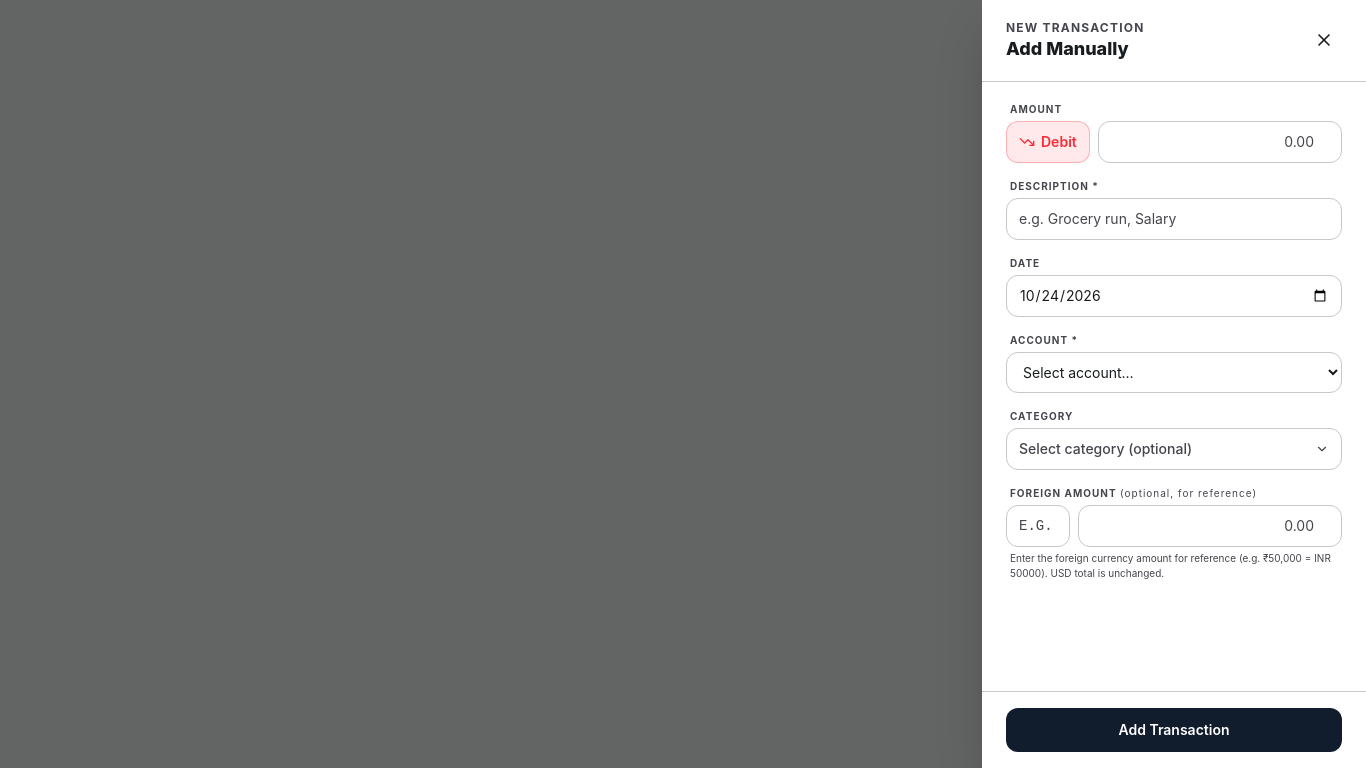
AddTransactionModal › shows validation errors when submitted with empty fields
The width and height of the screenshot is (1366, 768).
Step 1. Click the button "Add Transaction" → (1174, 730), box [1006,708,1342,752]
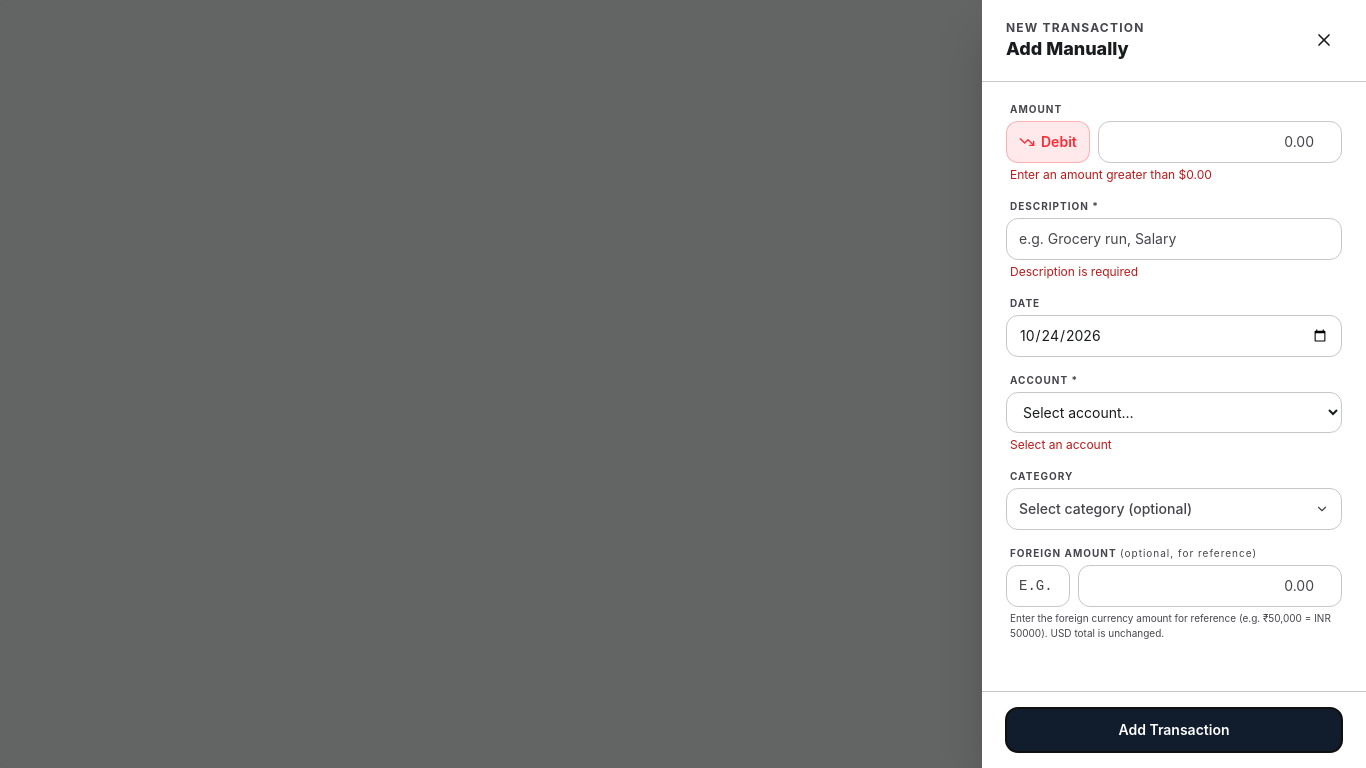
Check: the text "Enter an amount greater than $0.00" is shown, box [1010,166,1212,182]
Check: the text "Description is required" is shown, box [1010,264,1138,278]
Check: the text "Select an account" is shown, box [1010,436,1112,452]
